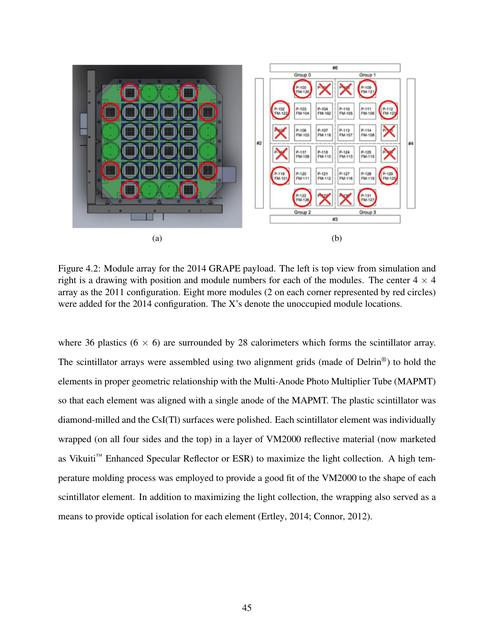box: (70, 62, 420, 247)
